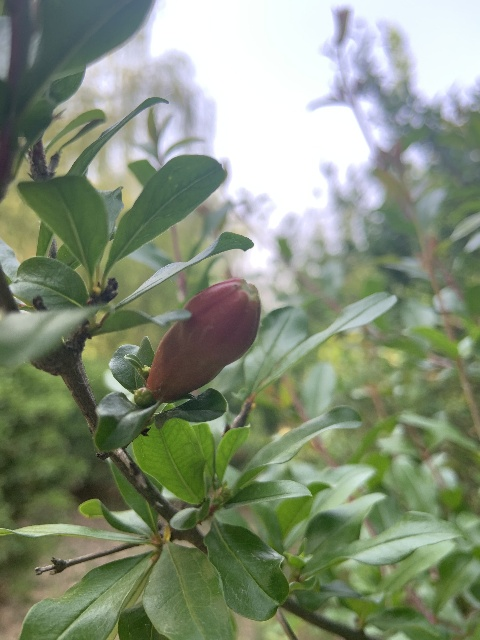bud: (145, 277, 261, 401)
